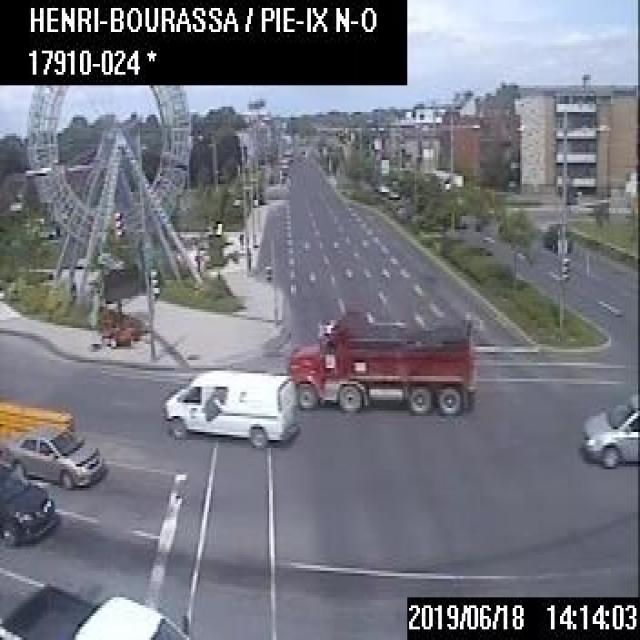construction: (98, 264, 138, 345)
vehicle: (286, 309, 477, 411), (0, 576, 191, 637), (162, 367, 298, 447), (2, 425, 102, 488), (578, 392, 638, 467), (0, 474, 53, 546)
